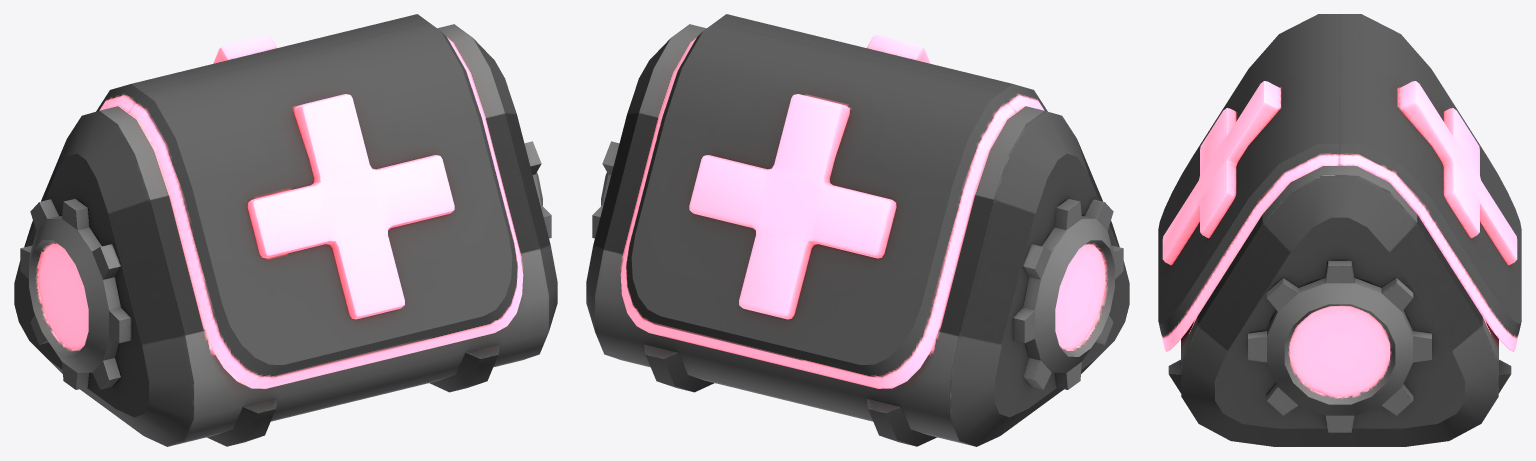
The model's file is HealthPackage.fbx.
3 views of the same model, side by side, from view 1: azimuth 30°, elevation 25°; view 2: azimuth 150°, elevation 25°; view 3: azimuth 270°, elevation 25° (orthographic). The views are drawn at different scales.
Visible parts, largest first — view 1: health_crate; view 2: health_crate; view 3: health_crate.
Part boxes in pixels (x1=…): health_crate: x1=14, y1=14, x2=557, y2=446; health_crate: x1=586, y1=14, x2=1129, y2=446; health_crate: x1=1158, y1=14, x2=1521, y2=446.
Bounding box in the file's own units: 17509 × 11862 × 13064.
Materials: 1 (1 with a texture image).
